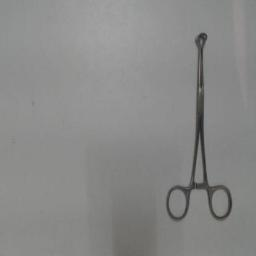Babcock Tissue Forceps: (164, 29, 236, 225)
